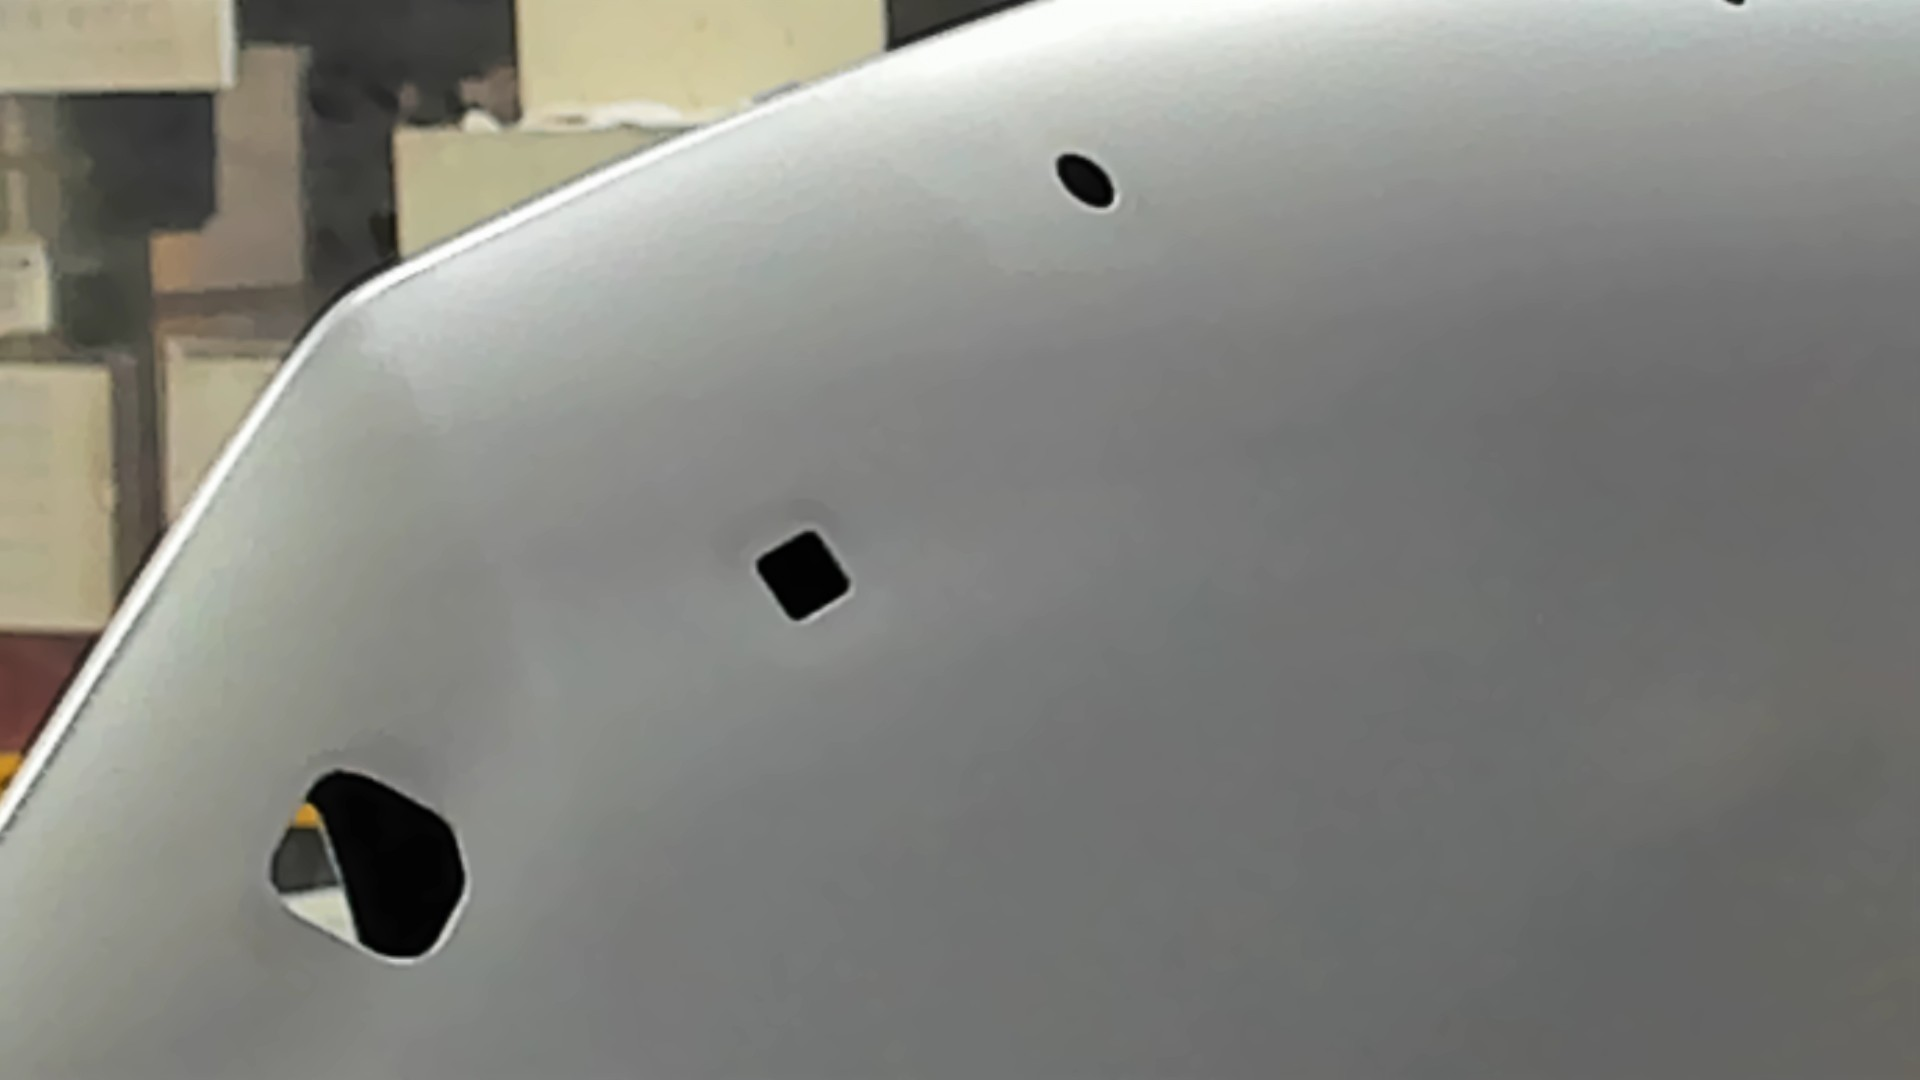chico: (1050, 149, 1120, 211)
grande: (264, 765, 469, 969)
mediano: (752, 524, 855, 626)
